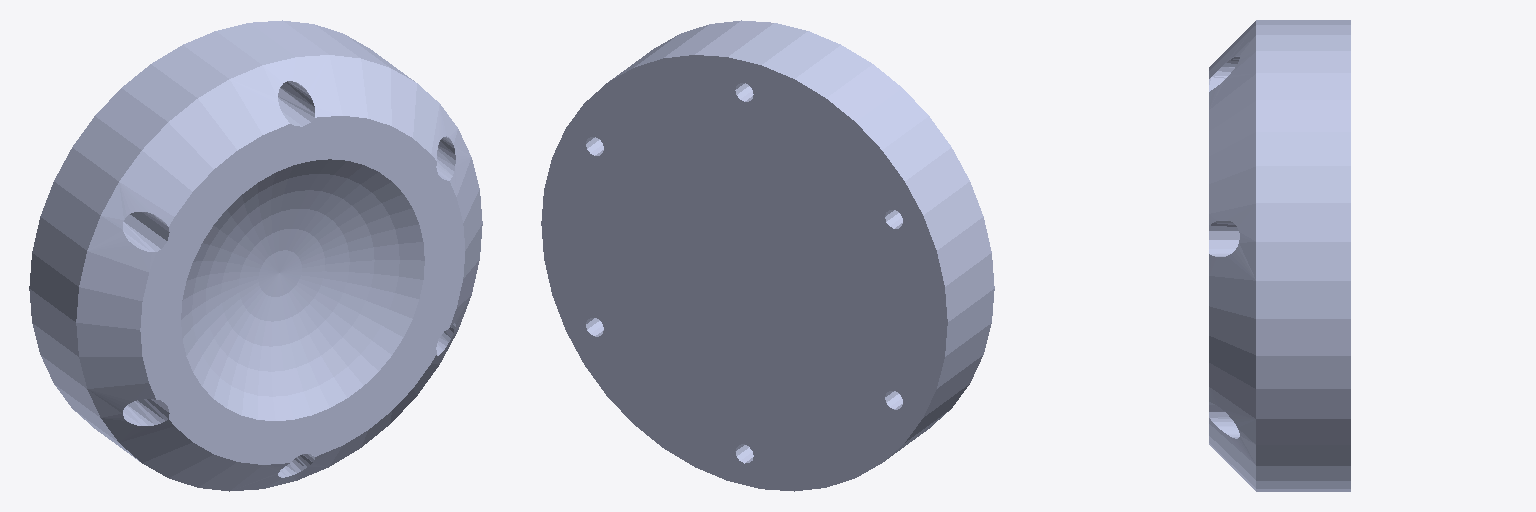
URDF robot description (base_airbearing):
<robot
  name="base_airbearing">
  <link
    name="base_airbearing">
    <inertial>
      <origin
        xyz="7.9644E-18 -0.013243 4.97353097183487E-19"
        rpy="0 0 0" />
      <mass
        value="0.20052" />
      <inertia
        ixx="0.000136365631888585"
        ixy="-4.12637760552995E-21"
        ixz="8.45379239206024E-22"
        iyy="0.000247483006850548"
        iyz="-8.45615527685662E-21"
        izz="0.000136365631888585" />
    </inertial>
    <visual>
      <origin
        xyz="0 0 0"
        rpy="1.5707963267949 0 0" />
      <geometry>
        <mesh
          filename="package://cubesat_airbearing/meshes/base_airbearing.STL" />
      </geometry>
      <material
        name="">
        <color
          rgba="0.79216 0.81961 0.93333 1" />
      </material>
    </visual>
    <collision>
      <origin
        xyz="0 0 0"
        rpy="1.5707963267949 0 0" />
      <geometry>
        <mesh
          filename="package://cubesat_airbearing/meshes/base_airbearing.STL" />
      </geometry>
    </collision>
  </link>
</robot>

--- What the picture shows (computed from the rendered views, not written in the file) ---
The picture shows the robot from 3 angles, left to right: view 1: azimuth 30°, elevation 25°; view 2: azimuth 150°, elevation 25°; view 3: azimuth 270°, elevation 25°; orthographic projection.
Model base_airbearing with 1 links and 0 joints (none), rooted at base_airbearing, posed all joints at 0.
Links seen in each view (by area): view 1: base_airbearing; view 2: base_airbearing; view 3: base_airbearing.
Link boxes in pixels (bbox=[...]): base_airbearing: bbox=[29, 20, 482, 491]; base_airbearing: bbox=[541, 20, 994, 491]; base_airbearing: bbox=[1209, 20, 1350, 491].
Bounding box of the posed robot: 0.1 × 0.03 × 0.0997 m (x, y, z).
Meshes: 1 distinct files referenced, 1 mesh visuals loaded (1 binary STL).